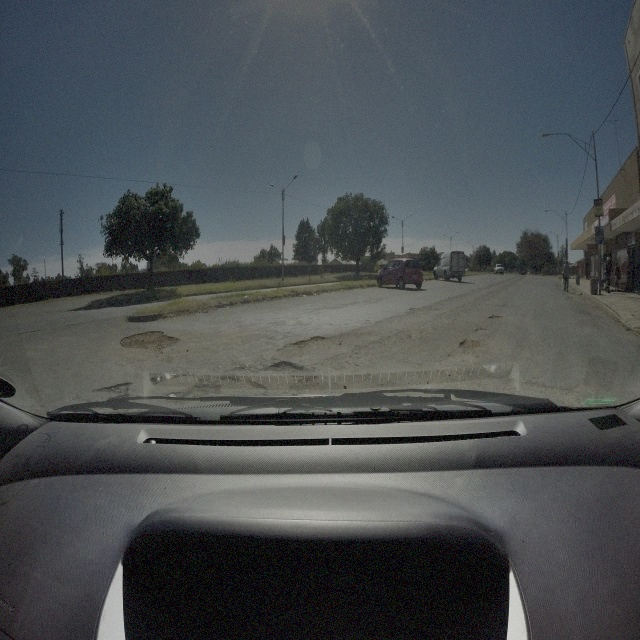pothole: (119, 324, 180, 353), (104, 378, 135, 394), (270, 362, 309, 374), (296, 336, 332, 348), (460, 338, 481, 350), (491, 313, 504, 319), (478, 328, 488, 331)
